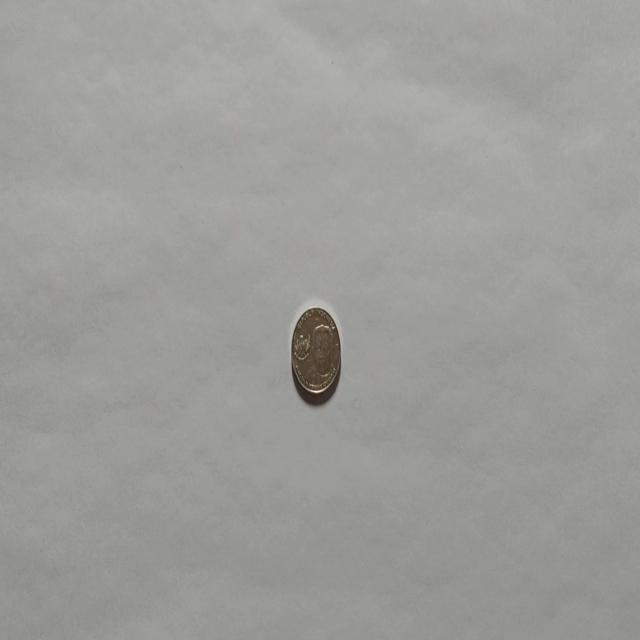seratus rupiah: (290, 304, 341, 396)
